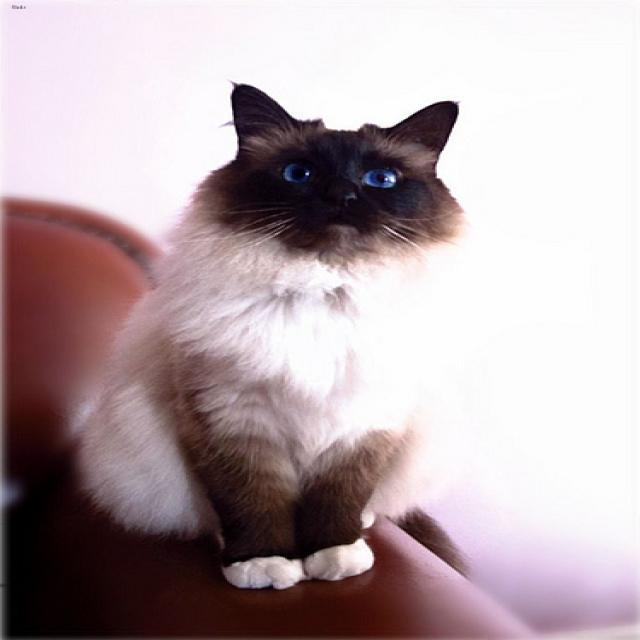Birman: (229, 83, 456, 246)
